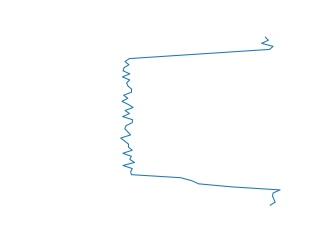distributaryChannelFill: (117, 36, 286, 209)
